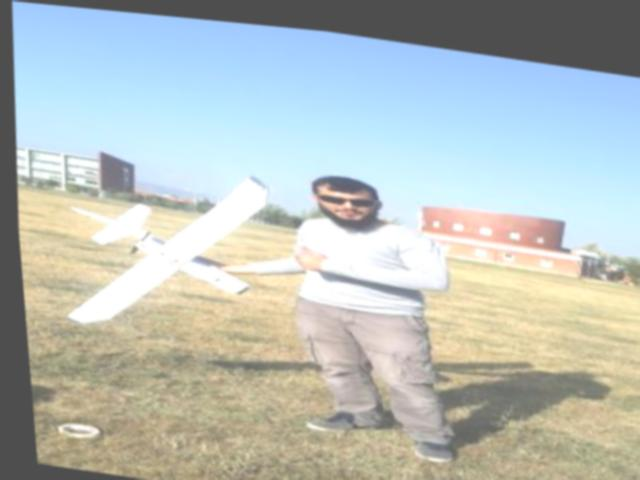uav: (44, 146, 275, 348)
